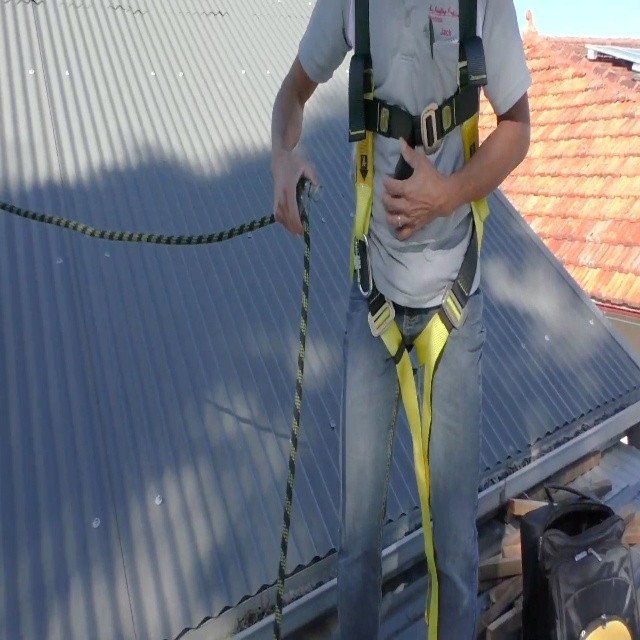Arnes_seguridad: (347, 0, 491, 640)
